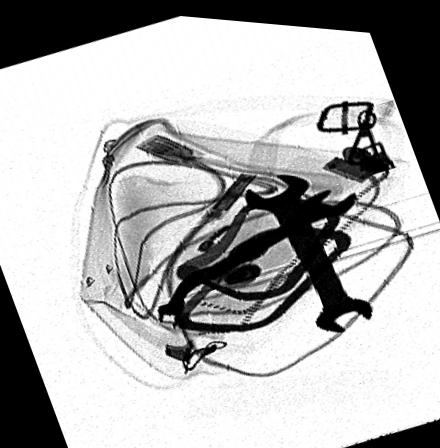Wrench: (154, 179, 358, 326), (246, 165, 375, 327)
